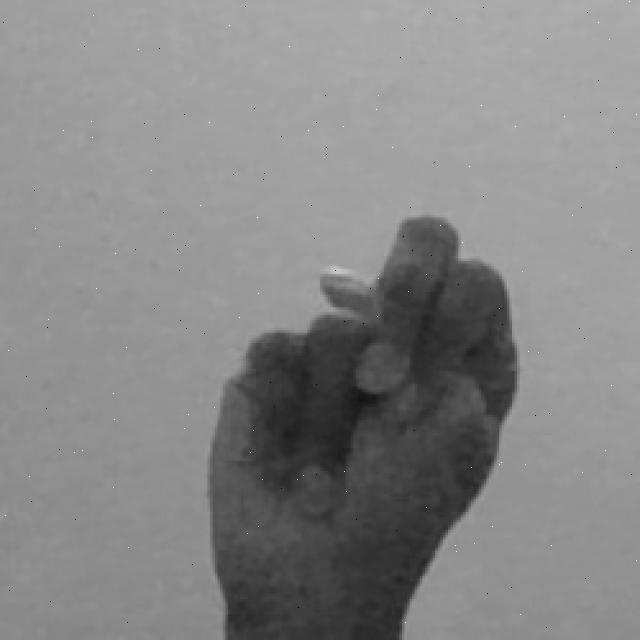N: (202, 205, 525, 640)
